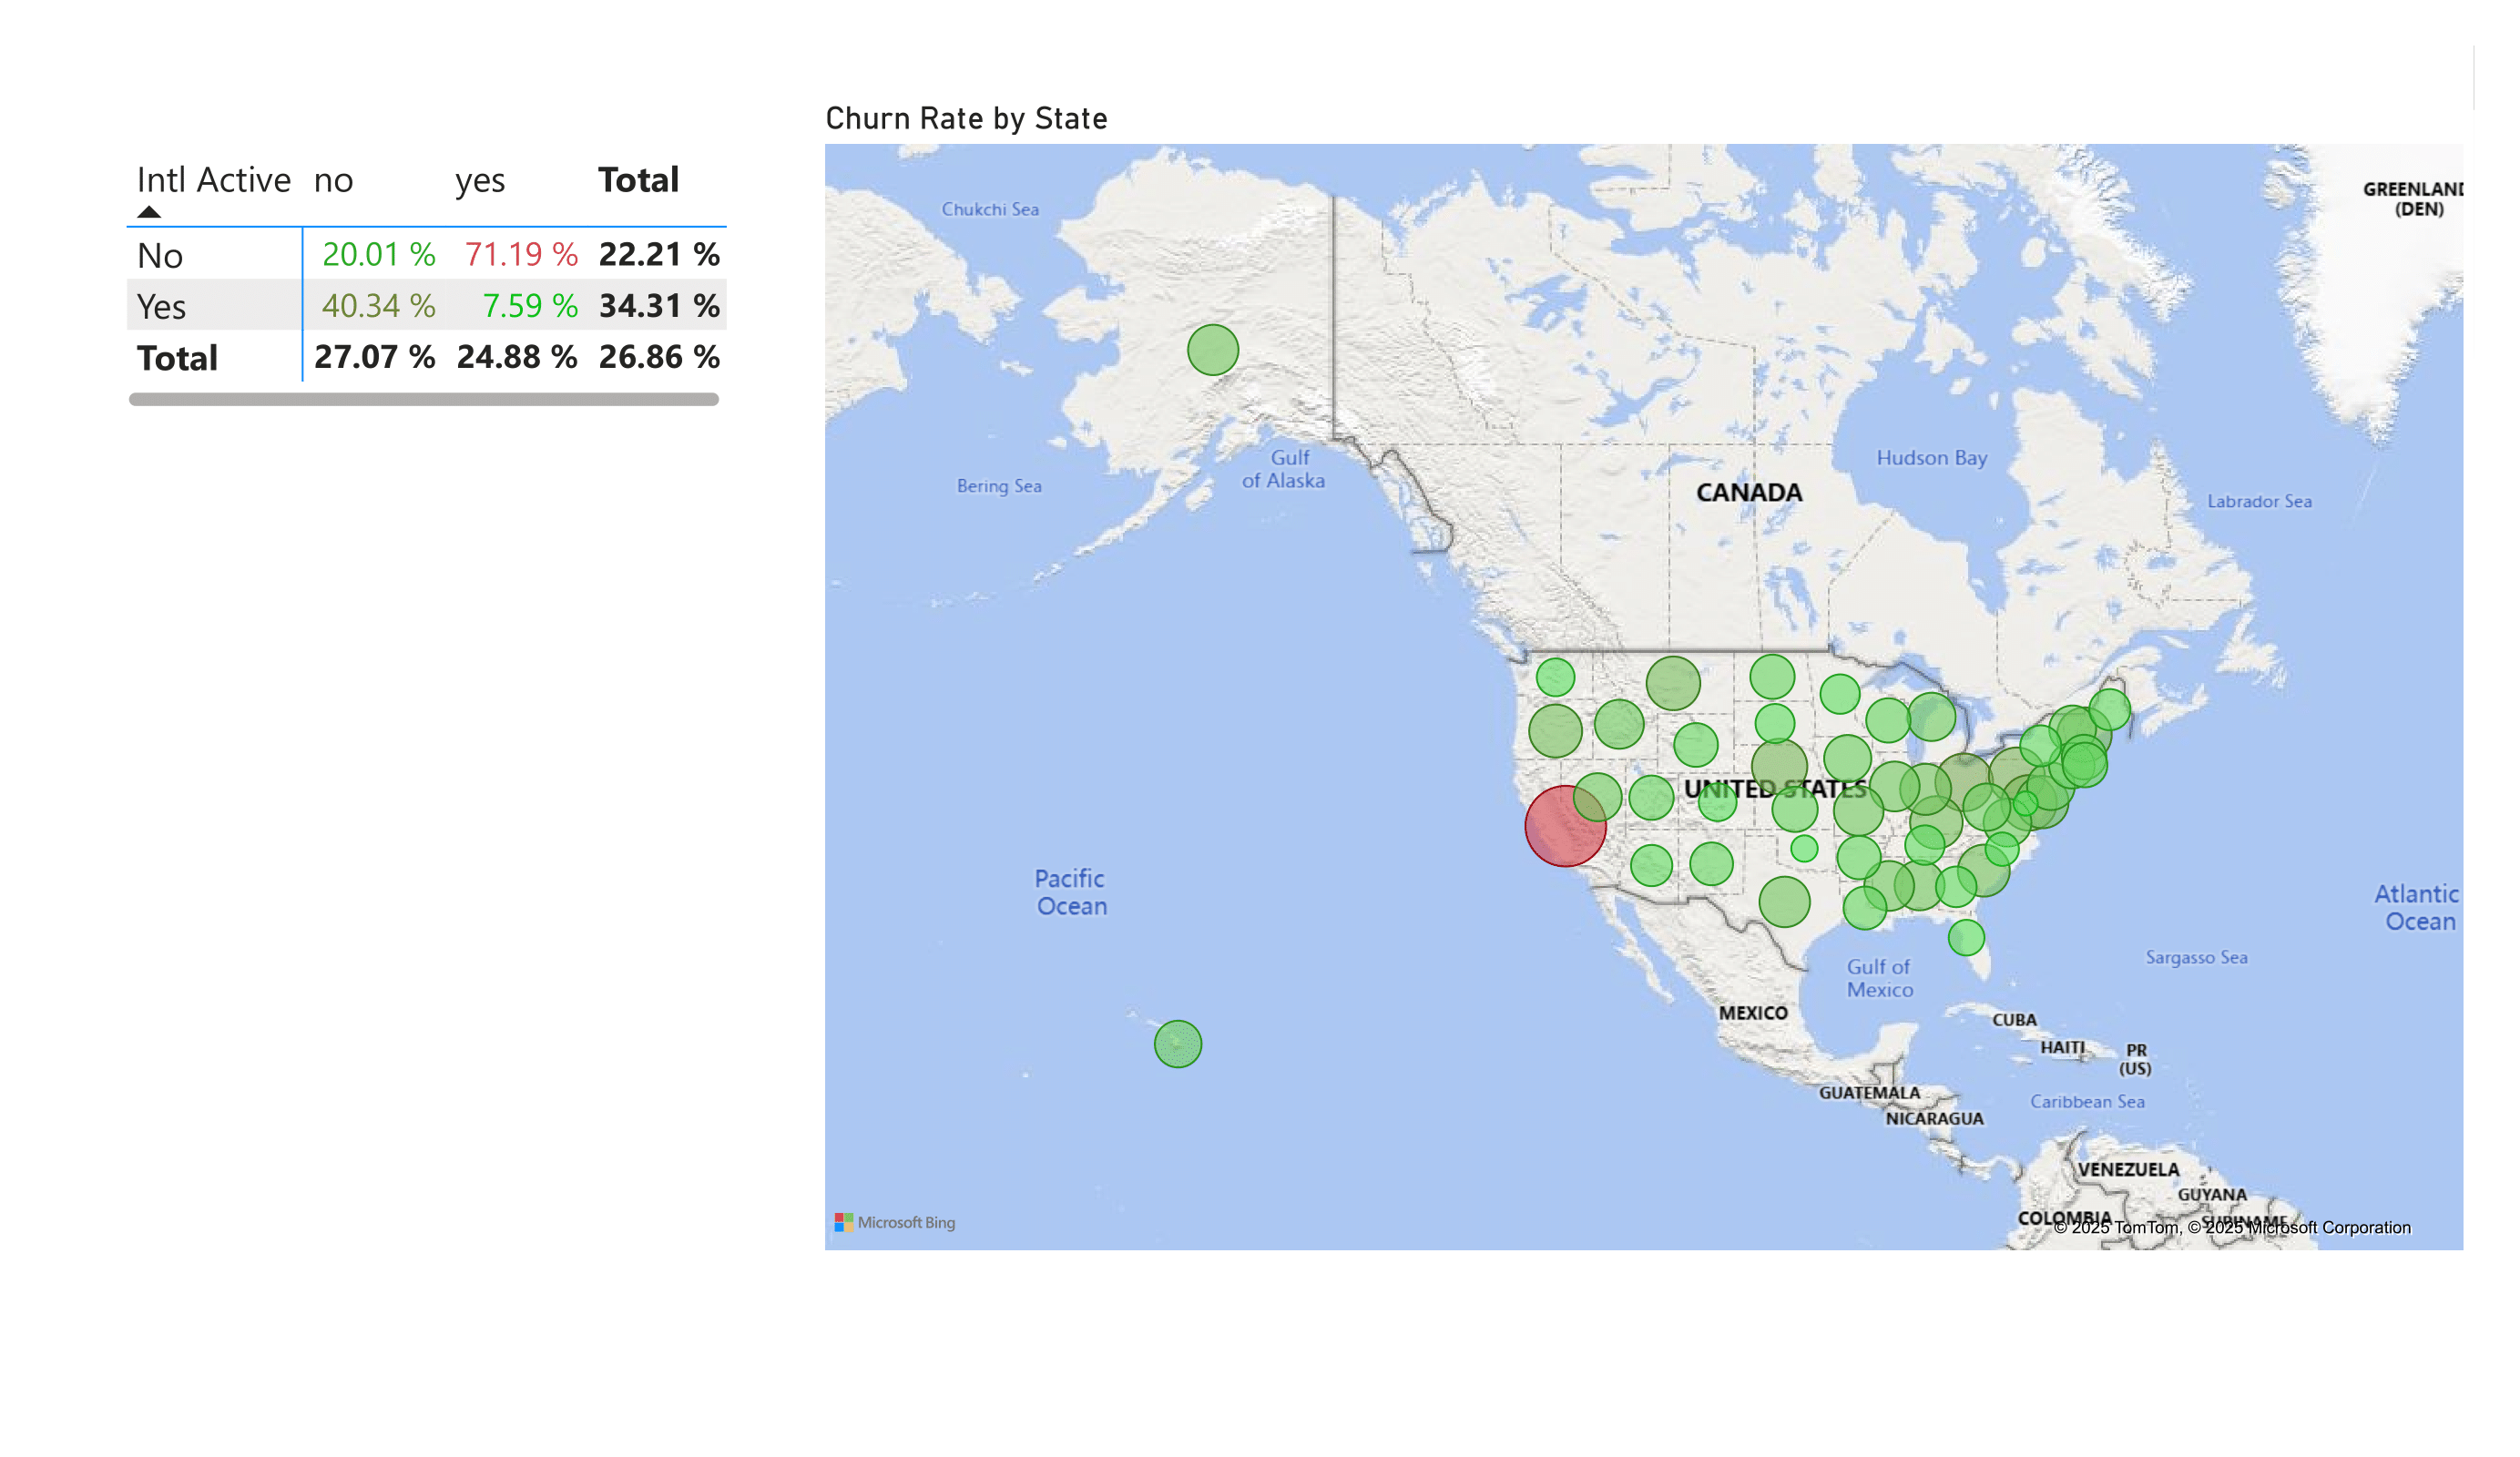

This screenshot's page, from the dashboard's own definition file:
{"tool":"powerbi","page":{"name":"International Calls","canvas":[1280,720],"ordinal":3},"visuals":[{"type":"pivotTable","fields":{"Rows":["Databel - Data.Intl Active"],"Values":["Databel - Data.Churn Rate"],"Columns":["Databel - Data.Intl Plan"]},"box":[38,51.1,325.7,144.6],"z":0},{"type":"map","fields":{"Category":["Databel - Data.State"],"Size":["Databel - Data.Churn Rate"]},"box":[406,27.7,873.3,611.9],"z":1000}]}

Visuals, with their boxes on the page's 1280x720 design canvas (x1, y1, x2, y2). These are canvas units, not pixel positions in the 2520x1457 screenshot, which may show the page scaled, cropped or inside an application window:
pivotTable - Databel - Data.Intl Active x Databel - Data.Churn Rate: 38, 51, 364, 196
map - Databel - Data.State x Databel - Data.Churn Rate: 406, 28, 1279, 640
